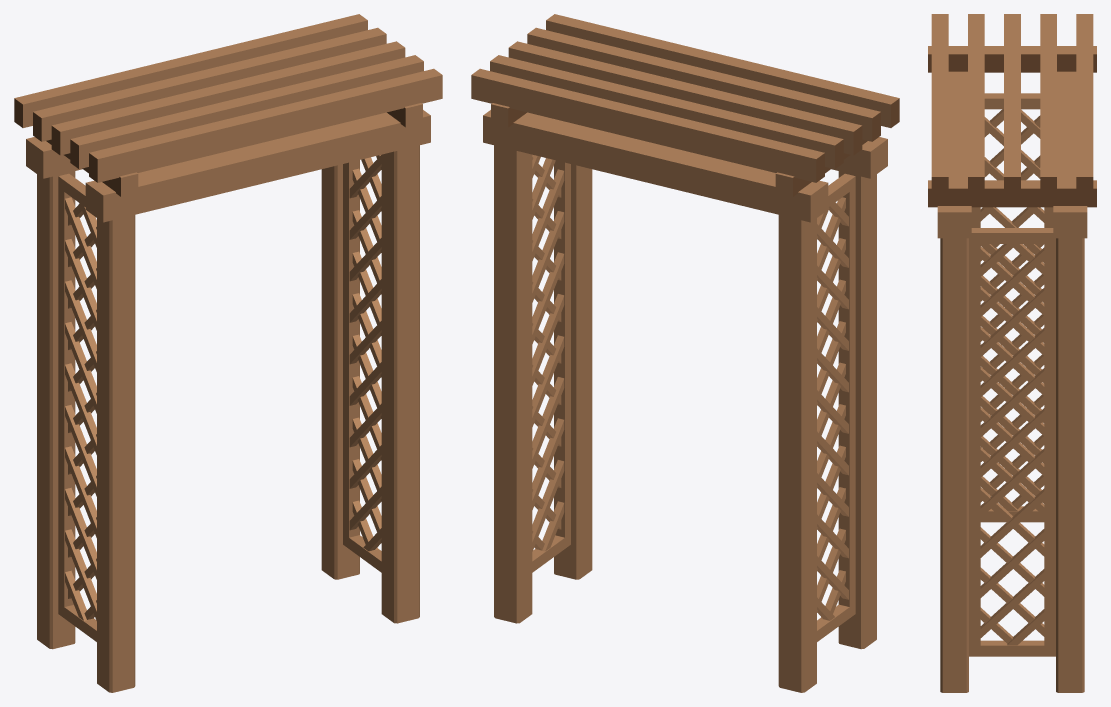
Rendered from FMS_Garden_Arch_Wood.fbx.
3 views of the same model, side by side, from view 1: azimuth 30°, elevation 25°; view 2: azimuth 150°, elevation 25°; view 3: azimuth 270°, elevation 25° (orthographic). The views are drawn at different scales.
Visible parts, largest first — view 1: FMS_Garden_Arch_Wood_Body; view 2: FMS_Garden_Arch_Wood_Body; view 3: FMS_Garden_Arch_Wood_Body.
Boxes of the visible parts, x1=… form: FMS_Garden_Arch_Wood_Body: x1=14, y1=14, x2=442, y2=692; FMS_Garden_Arch_Wood_Body: x1=471, y1=14, x2=899, y2=692; FMS_Garden_Arch_Wood_Body: x1=928, y1=14, x2=1096, y2=692.
Size of the model in its own units: 1.6 by 2.4 by 0.7.
Materials: 1 (1 with a texture image).
